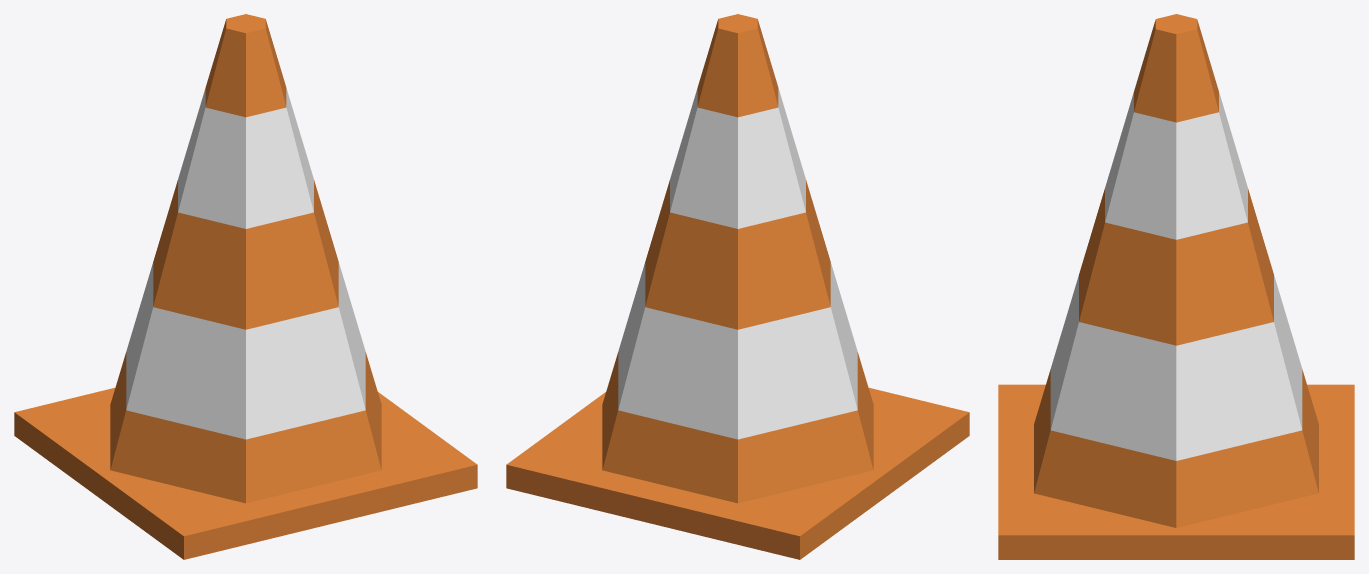
Rendered from construction_cone.fbx.
3 views of the same model, side by side, from view 1: azimuth 30°, elevation 25°; view 2: azimuth 150°, elevation 25°; view 3: azimuth 270°, elevation 25° (orthographic). The views are drawn at different scales.
Parts seen in each view (by area): view 1: construction_cone; view 2: construction_cone; view 3: construction_cone.
Boxes of the visible parts, left/top/right/bottom form: construction_cone: left=14, top=14, right=477, bottom=559; construction_cone: left=506, top=14, right=969, bottom=559; construction_cone: left=998, top=14, right=1354, bottom=559.
Bounding box in the file's own units: 52 × 74.19 × 52.
1 material, 1 textured.
